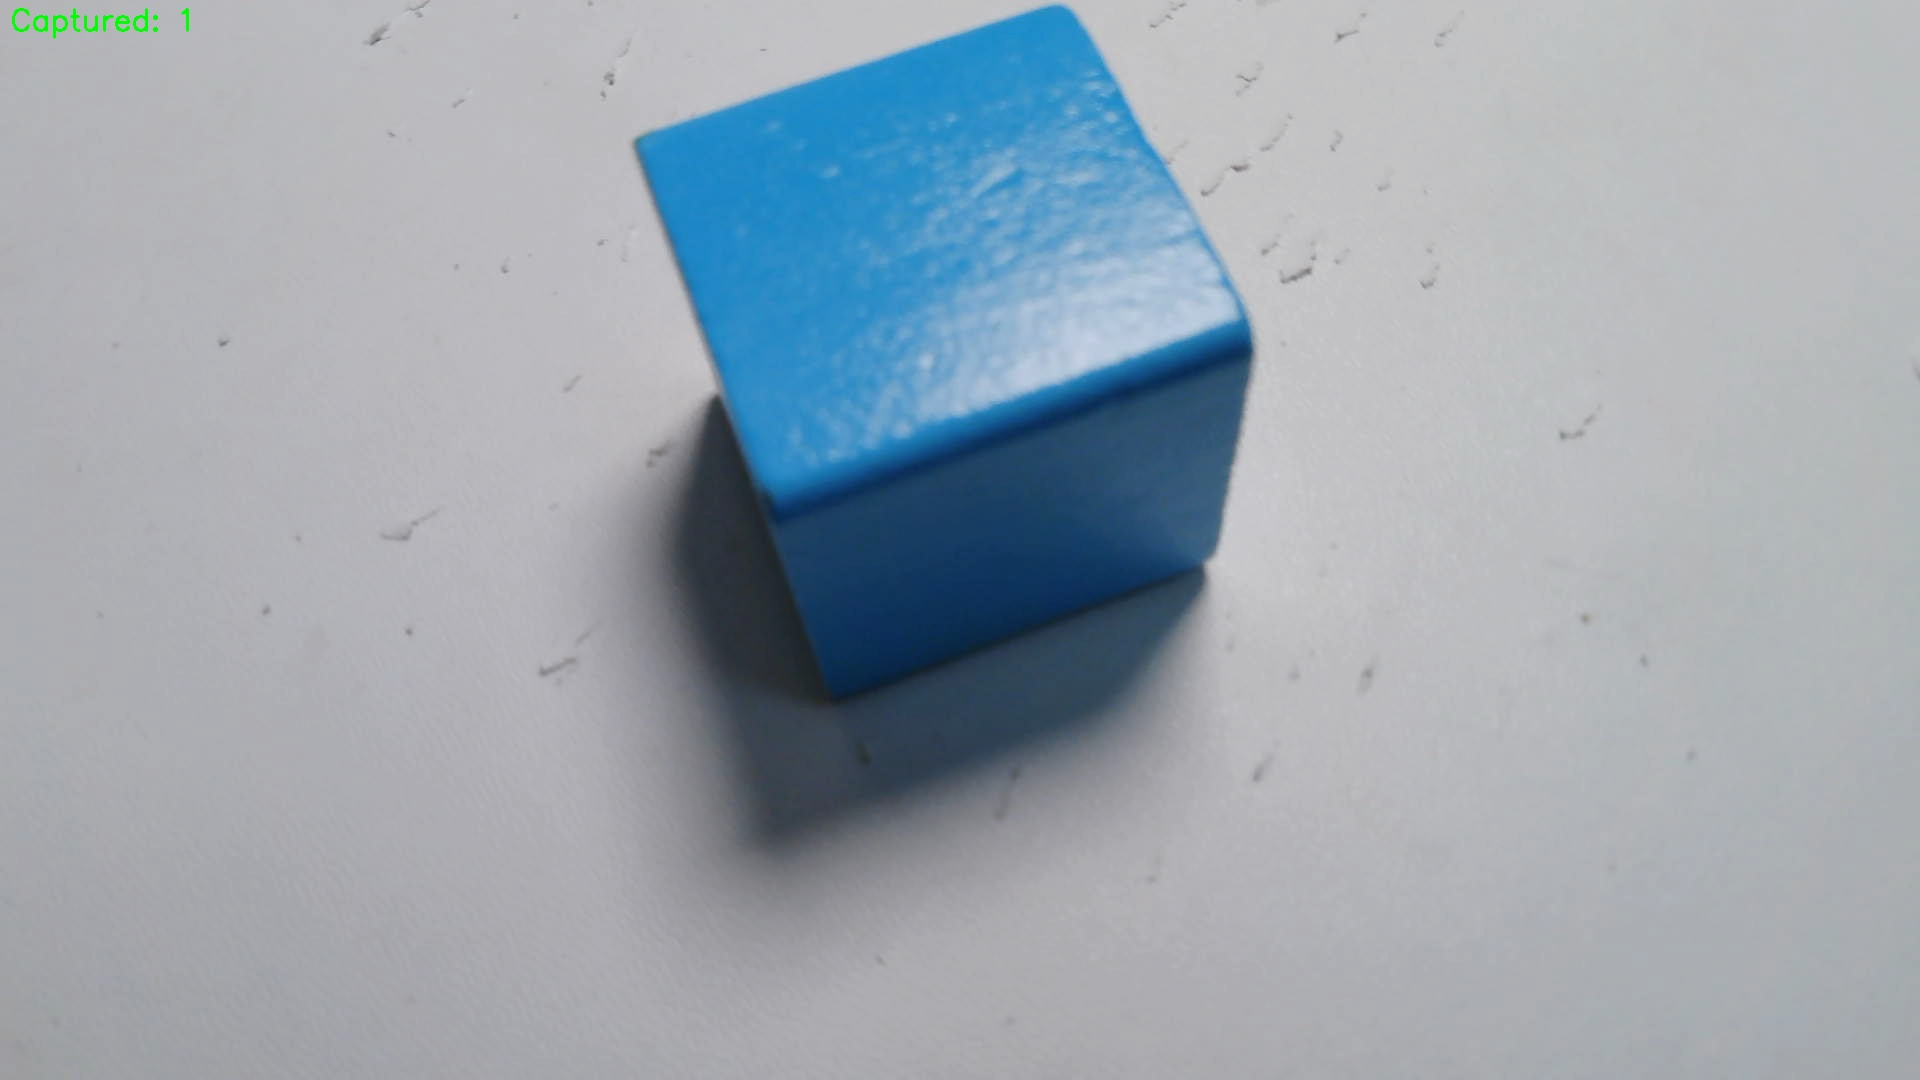blue: (632, 5, 1261, 703)
